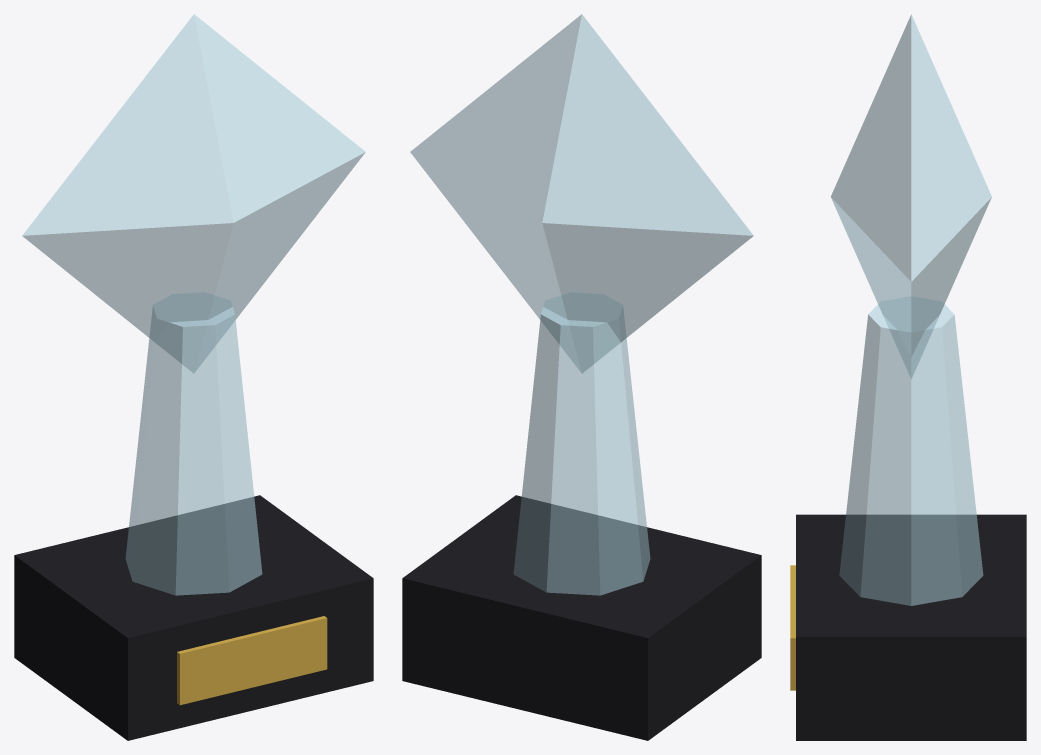
The model's file is glass_trophy.glb.
3 views of the same model, side by side, from view 1: azimuth 30°, elevation 25°; view 2: azimuth 150°, elevation 25°; view 3: azimuth 270°, elevation 25° (orthographic).
Parts seen in each view (by area): view 1: star_trophy_glass, base_trophy_base, stem_trophy_glass, plate_trophy_plate; view 2: base_trophy_base, star_trophy_glass, stem_trophy_glass; view 3: base_trophy_base, stem_trophy_glass, star_trophy_glass, plate_trophy_plate.
Part boxes in pixels (box(x1,y1,x2,y2)): star_trophy_glass: box(22, 14, 365, 372); base_trophy_base: box(14, 495, 373, 740); stem_trophy_glass: box(125, 292, 262, 595); plate_trophy_plate: box(177, 616, 327, 705); base_trophy_base: box(402, 495, 761, 740); star_trophy_glass: box(410, 14, 753, 372); stem_trophy_glass: box(513, 292, 650, 595); base_trophy_base: box(796, 514, 1026, 740); stem_trophy_glass: box(839, 296, 983, 605); star_trophy_glass: box(831, 14, 991, 378); plate_trophy_plate: box(790, 565, 795, 690).
Size of the model in its own units: 0.14 by 0.255 by 0.082.
